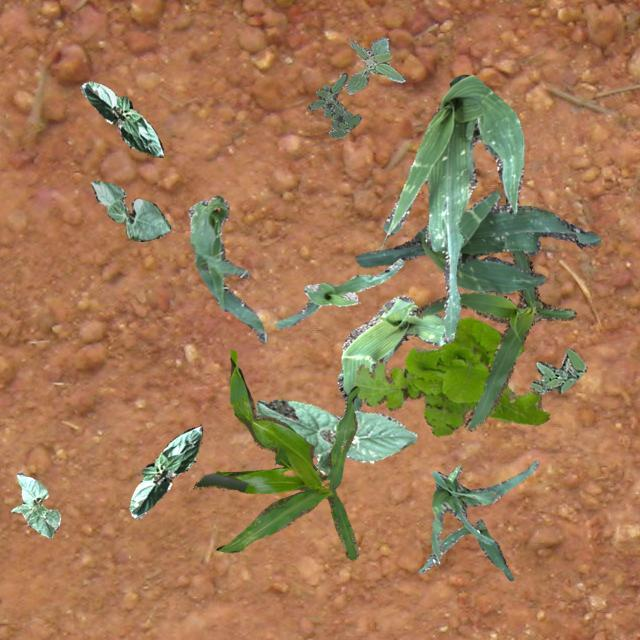crop: (382, 74, 522, 342), (194, 348, 358, 558), (414, 248, 576, 430), (354, 190, 600, 292), (336, 294, 448, 411), (254, 398, 416, 473), (188, 195, 266, 342), (430, 459, 538, 564), (274, 259, 402, 327), (128, 426, 202, 518), (80, 80, 162, 156), (418, 518, 512, 580), (90, 180, 170, 240), (10, 472, 60, 538)
weed: (352, 316, 548, 436), (306, 72, 361, 138), (344, 36, 404, 94), (528, 348, 584, 393)
